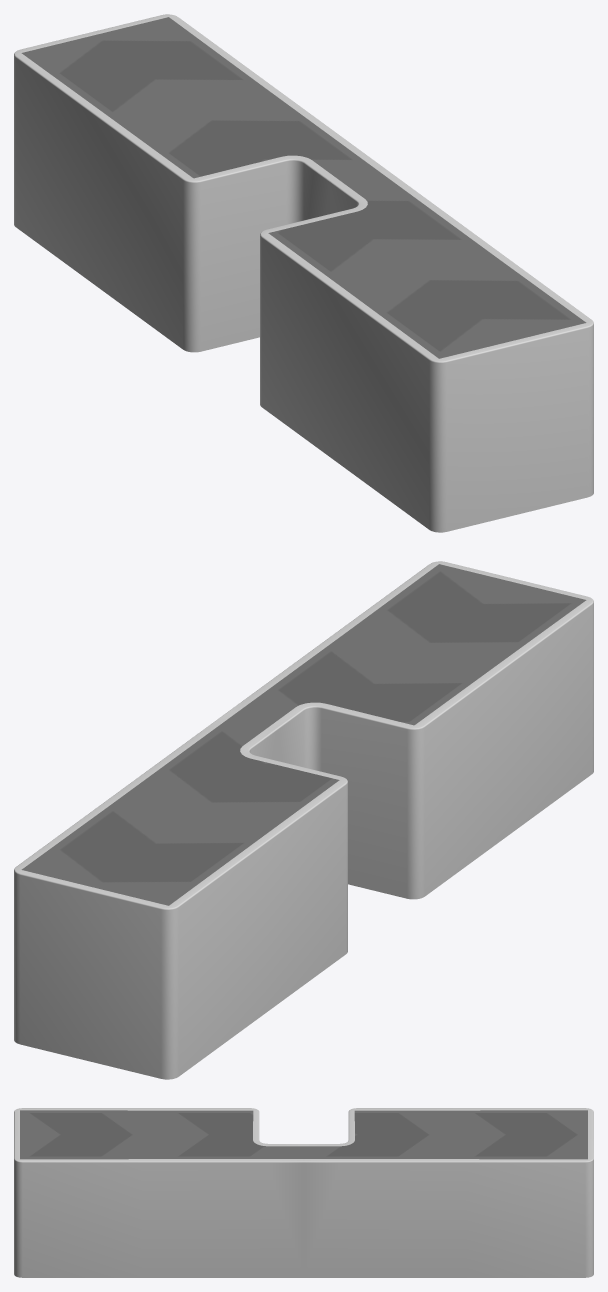
Rendered from Platform_Left3.fbx.
3 renders of one model, top to bottom at view 1: azimuth 30°, elevation 25°; view 2: azimuth 150°, elevation 25°; view 3: azimuth 270°, elevation 25°, orthographic. The views are drawn at different scales.
Visible parts, largest first — view 1: Platform_Left3; view 2: Platform_Left3; view 3: Platform_Left3.
Part boxes in pixels (box(x1,y1,x2,y2)): Platform_Left3: box(14, 14, 593, 532); Platform_Left3: box(14, 561, 593, 1079); Platform_Left3: box(14, 1108, 593, 1277).
Size of the model in its own units: 671 by 671 by 3040.
2 materials, 1 textured.
